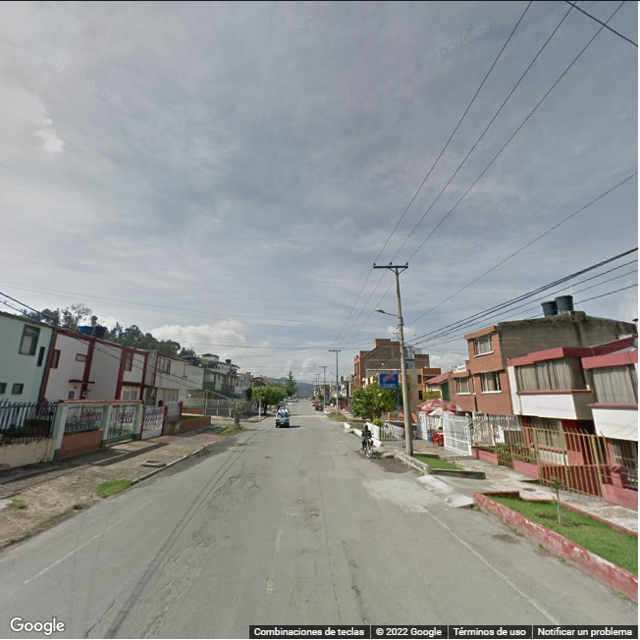D00: (81, 586, 128, 639), (148, 538, 199, 585), (139, 603, 167, 638)
